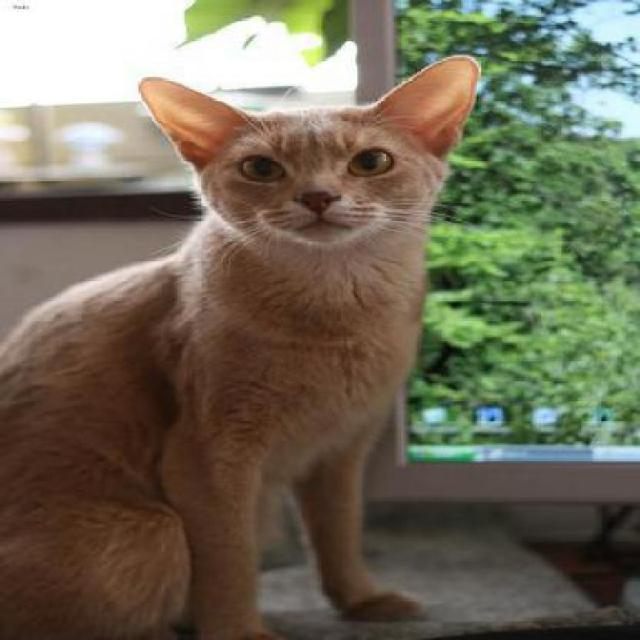cat: (0, 54, 483, 638)
